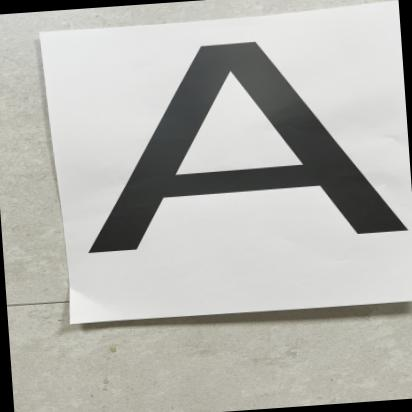seat: (52, 19, 412, 280)
